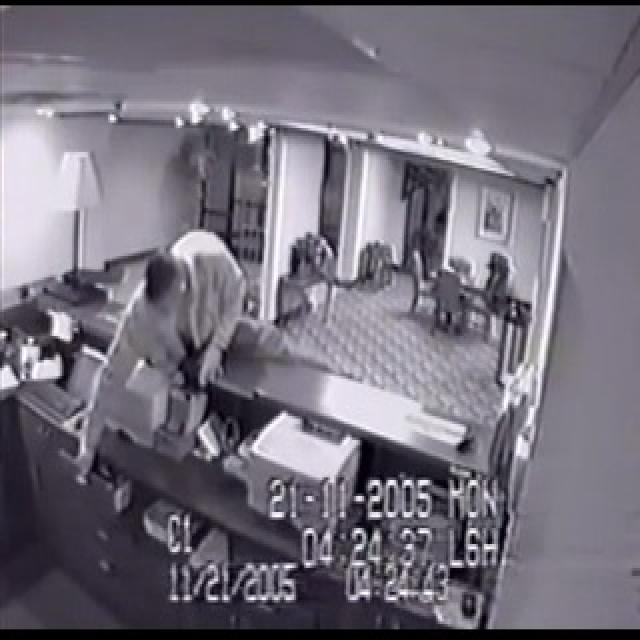thief: (58, 202, 345, 512)
